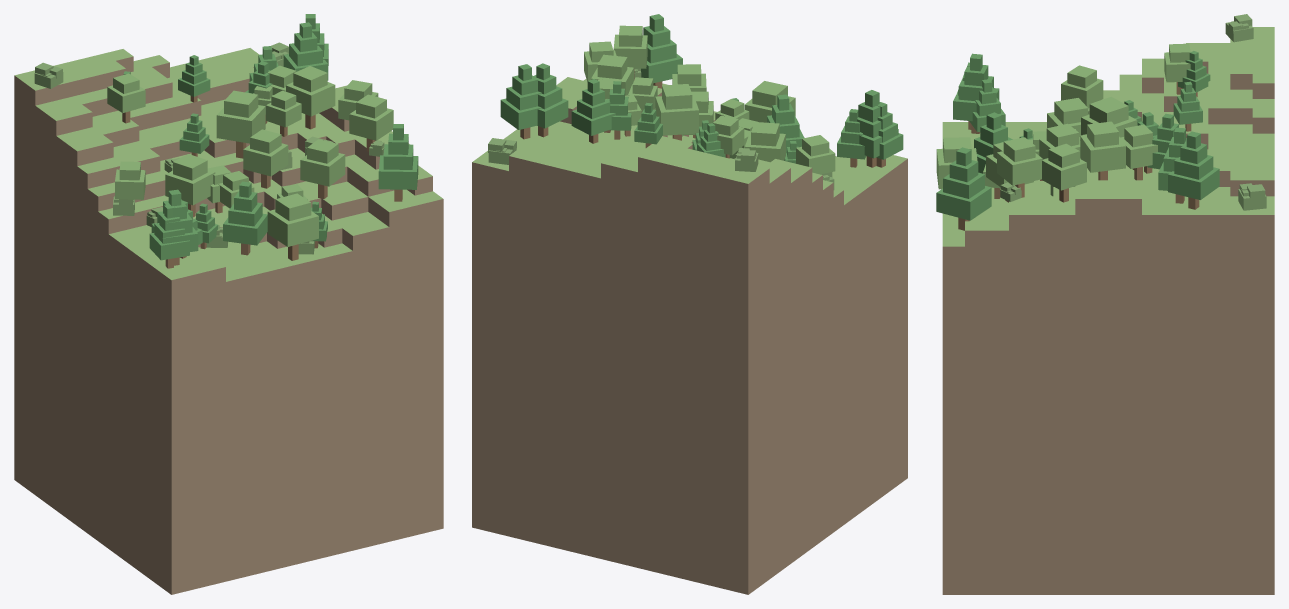
Rendered from block_21_terracing_100.glb.
3 views of the same model, side by side, from view 1: azimuth 30°, elevation 25°; view 2: azimuth 150°, elevation 25°; view 3: azimuth 270°, elevation 25° (orthographic). The views are drawn at different scales.
Parts seen in each view (by area): view 1: Patch_UpperRight_b22_TR, TR_Veg_21_019, TR_Veg_21_037, TR_Veg_21_001, TR_Veg_21_008, TR_Veg_21_004, TR_Veg_21_024, TR_Veg_21_031, TR_Veg_21_022, TR_Veg_21_010, TR_Veg_21_033, TR_Veg_21_011 (+10 smaller); view 2: Patch_UpperRight_b22_TR, TR_Veg_21_032, TR_Veg_21_037, TR_Veg_21_001, TR_Veg_21_017, TR_Veg_21_033, TR_Veg_21_018, TR_Veg_21_024, TR_Veg_21_010, TR_Veg_21_035, TR_Veg_21_019, TR_Veg_21_011 (+11 smaller); view 3: Patch_UpperRight_b22_TR, TR_Veg_21_001, TR_Veg_21_032, TR_Veg_21_004, TR_Veg_21_010, TR_Veg_21_000, TR_Veg_21_018, TR_Veg_21_027, TR_Veg_21_035, TR_Veg_21_037, TR_Veg_21_008, TR_Veg_21_019 (+11 smaller).
Boxes of the visible parts, x1,y1,x2,y2 form: Patch_UpperRight_b22_TR: [14, 48, 443, 594]; TR_Veg_21_019: [267, 193, 318, 260]; TR_Veg_21_037: [216, 90, 265, 158]; TR_Veg_21_001: [378, 124, 418, 201]; TR_Veg_21_008: [223, 181, 267, 255]; TR_Veg_21_004: [286, 66, 335, 129]; TR_Veg_21_024: [165, 154, 215, 217]; TR_Veg_21_031: [300, 139, 345, 198]; TR_Veg_21_022: [243, 129, 288, 188]; TR_Veg_21_010: [349, 94, 393, 151]; TR_Veg_21_033: [283, 22, 328, 80]; TR_Veg_21_011: [149, 204, 189, 268]; Patch_UpperRight_b22_TR: [472, 77, 907, 594]; TR_Veg_21_032: [500, 64, 541, 139]; TR_Veg_21_037: [655, 84, 698, 140]; TR_Veg_21_001: [641, 14, 682, 88]; TR_Veg_21_017: [571, 79, 615, 143]; TR_Veg_21_033: [533, 63, 568, 137]; TR_Veg_21_018: [857, 90, 898, 167]; TR_Veg_21_024: [744, 122, 785, 162]; TR_Veg_21_010: [613, 25, 647, 80]; TR_Veg_21_035: [796, 135, 835, 174]; TR_Veg_21_019: [744, 81, 795, 122]; TR_Veg_21_011: [876, 102, 903, 167]; Patch_UpperRight_b22_TR: [942, 27, 1274, 594]; TR_Veg_21_001: [936, 147, 991, 230]; TR_Veg_21_032: [1168, 131, 1219, 209]; TR_Veg_21_004: [1080, 121, 1125, 180]; TR_Veg_21_010: [997, 137, 1042, 197]; TR_Veg_21_000: [1041, 143, 1086, 202]; TR_Veg_21_018: [953, 53, 999, 133]; TR_Veg_21_027: [1120, 124, 1157, 180]; TR_Veg_21_035: [1061, 65, 1103, 108]; TR_Veg_21_037: [1081, 96, 1137, 137]; TR_Veg_21_008: [974, 112, 1012, 173]; TR_Veg_21_019: [936, 137, 977, 189].
Bounding box in the file's own units: 9.85 × 14.31 × 9.68.
